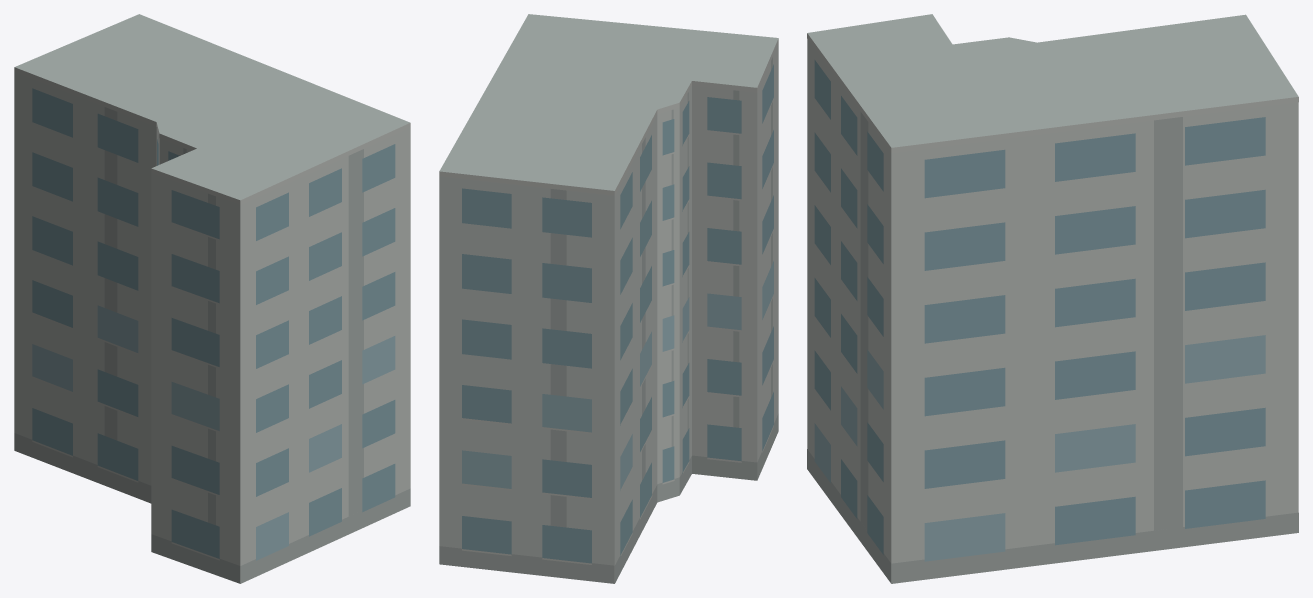
File: survey-upis-32560872.glb
The picture shows the model from 3 angles, left to right: view 1: azimuth 30°, elevation 25°; view 2: azimuth 150°, elevation 25°; view 3: azimuth 270°, elevation 25°; orthographic projection. The views are drawn at different scales.
Visible parts, largest first — view 1: survey-upis-32560872.tmp; view 2: survey-upis-32560872.tmp; view 3: survey-upis-32560872.tmp.
Part boxes in pixels (x1=…): survey-upis-32560872.tmp: x1=14, y1=14, x2=410, y2=583; survey-upis-32560872.tmp: x1=439, y1=14, x2=778, y2=583; survey-upis-32560872.tmp: x1=807, y1=14, x2=1298, y2=583.
Bounding box in the file's own units: 12.72 × 19.3 × 19.73.
